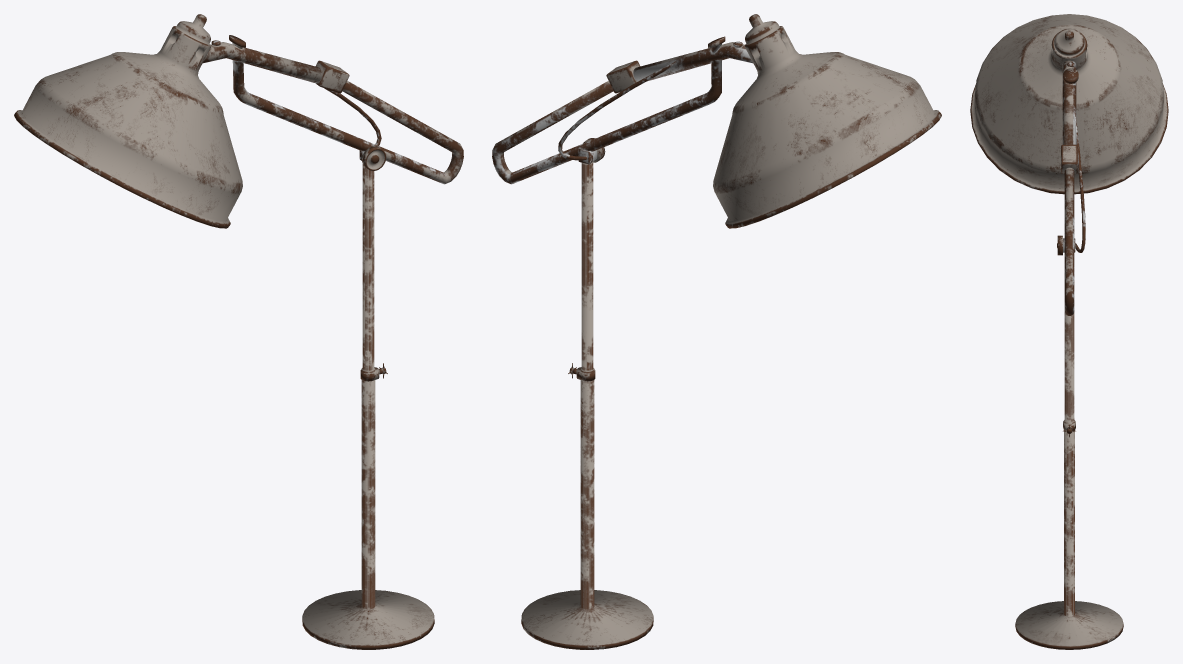
Rendered from lampa_operac.glb.
The picture shows the model from 3 angles, left to right: view 1: azimuth 30°, elevation 25°; view 2: azimuth 150°, elevation 25°; view 3: azimuth 270°, elevation 25°; orthographic projection. The views are drawn at different scales.
Visible parts, largest first — view 1: BézierCurve.005; view 2: BézierCurve.005; view 3: BézierCurve.005.
Boxes of the visible parts, x1,y1,x2,y2 form: BézierCurve.005: [14, 14, 463, 649]; BézierCurve.005: [492, 14, 941, 649]; BézierCurve.005: [970, 14, 1168, 649].
Bounding box in the file's own units: 1.21 × 1.74 × 0.5926.
2 materials, 2 textured.
